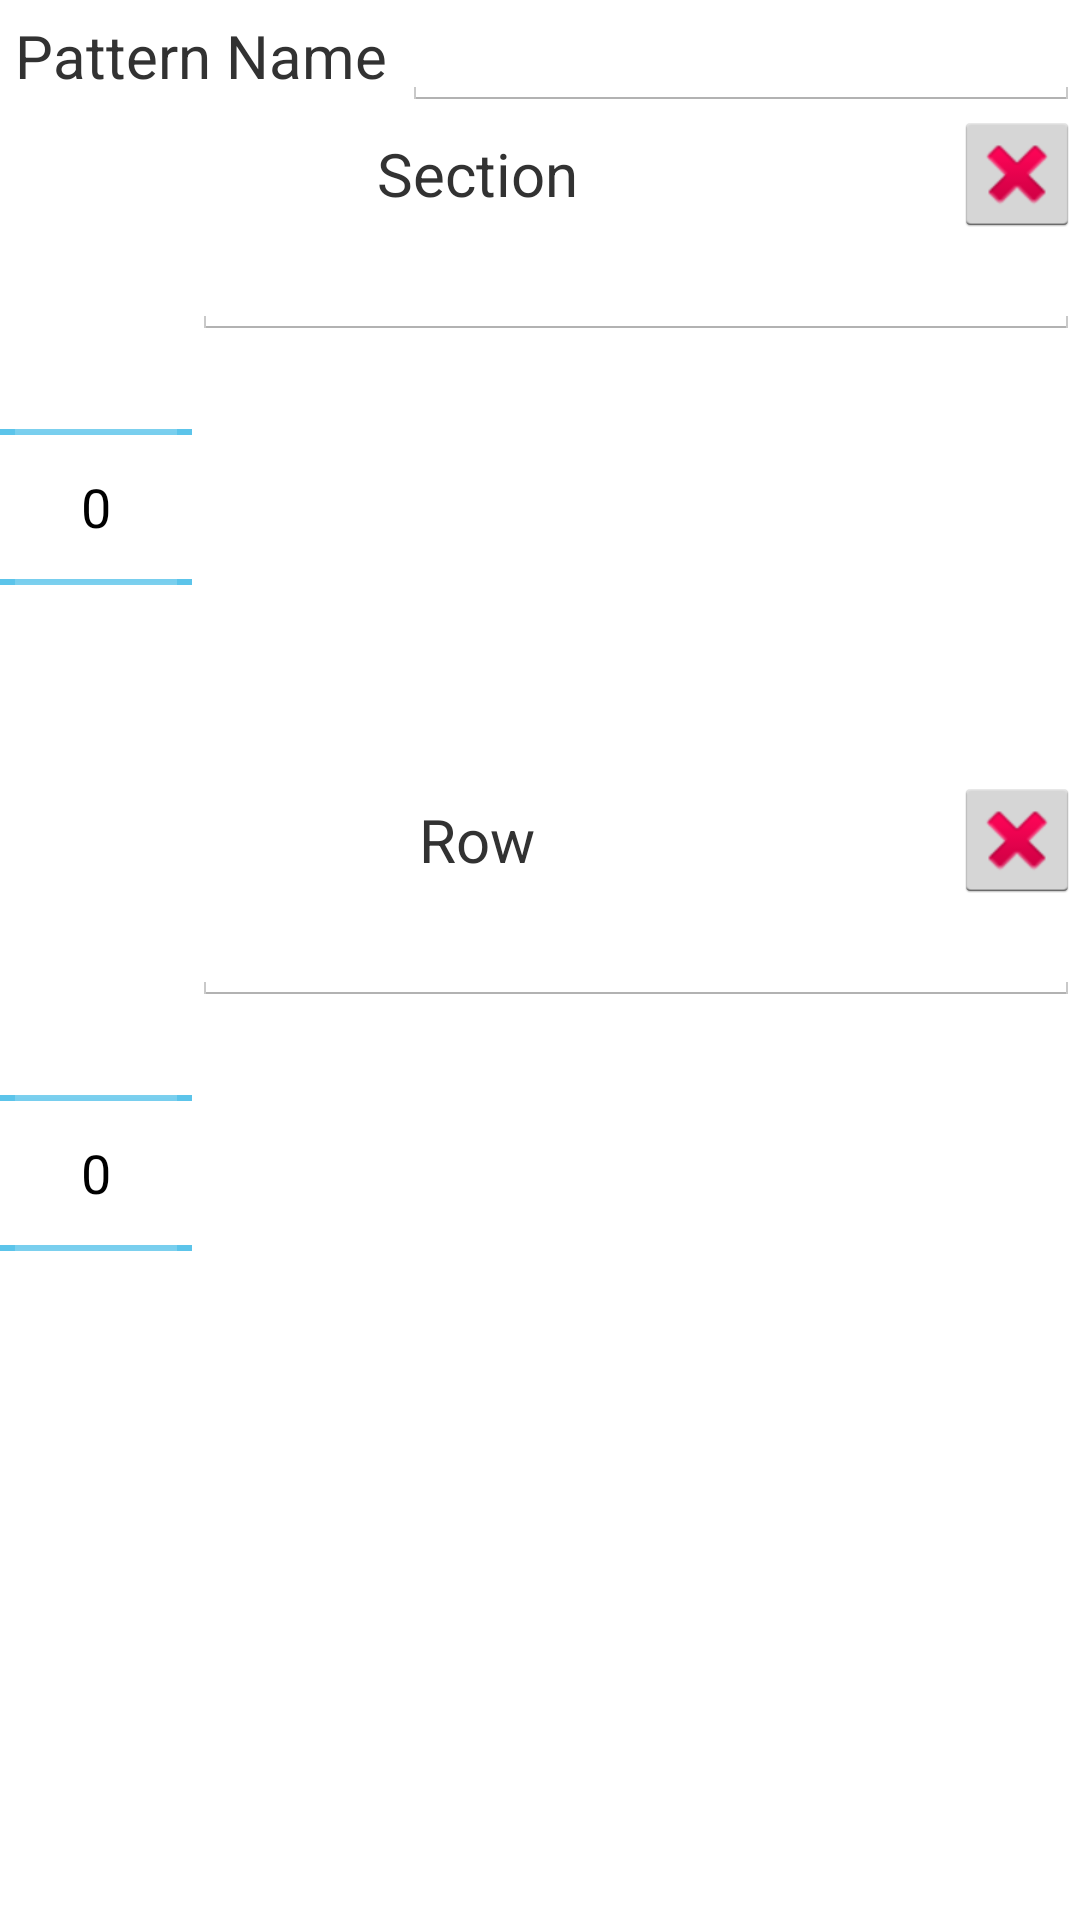

Screen size 1080 x 1920. Icon name, then its box in pixels as region(x1, y1, x2, y2):
delete: region(966, 124, 1068, 226), region(966, 790, 1068, 892)
